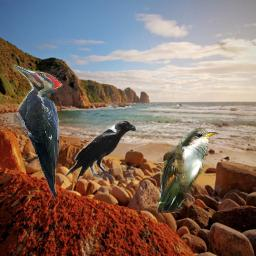Crow: (62, 118, 136, 181)
Cuckoo: (157, 128, 218, 213)
Woodpecker: (11, 64, 63, 199)
